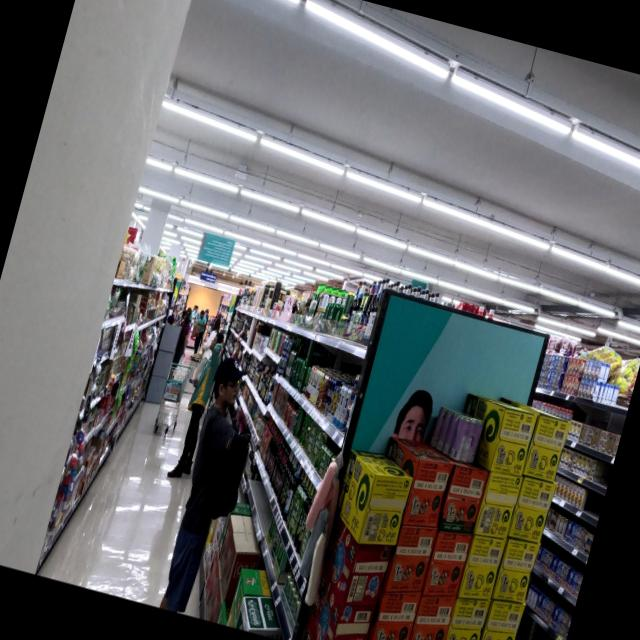shoplifting: (152, 350, 270, 620)
